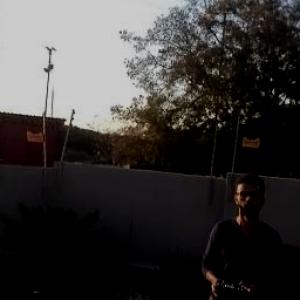follow: (193, 164, 286, 299)
